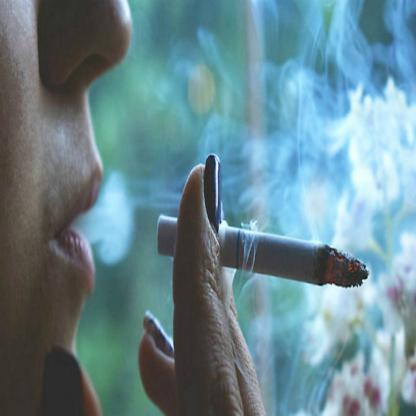smoking: (156, 214, 370, 288)
